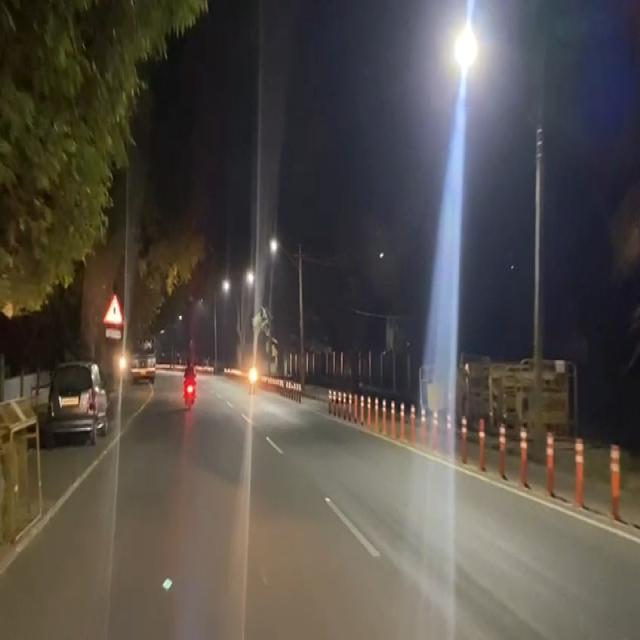bien_cam: (101, 292, 124, 328)
